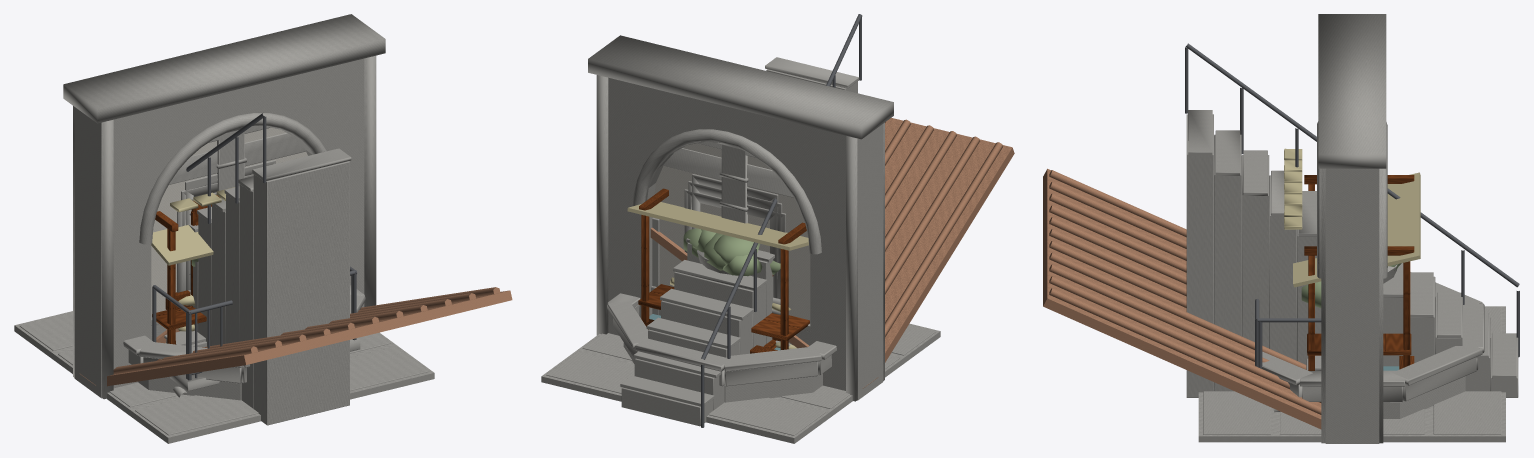
Rendered from kit.glb.
3 renders of one model, left to right at view 1: azimuth 30°, elevation 25°; view 2: azimuth 150°, elevation 25°; view 3: azimuth 270°, elevation 25°, orthographic. The views are drawn at different scales.
Parts seen in each view (by area): view 1: freestanding-archway, external-stair-run, floor-tile, roof-tile-slope, balcony-bay, market-awning-stall, octagonal-fountain, timber-double-gate, wall-plaster-bay, corner-post, wall-shuttered-window, wall-timber-door; view 2: freestanding-archway, external-stair-run, roof-tile-slope, floor-tile, octagonal-fountain, market-awning-stall, wall-plaster-bay, wall-shuttered-window, potted-olive-tree, timber-double-gate, corner-post, wall-timber-door (+3 smaller); view 3: external-stair-run, freestanding-archway, roof-tile-slope, floor-tile, market-awning-stall, octagonal-fountain, balcony-bay.
Boxes of the visible parts, left/top/right/bottom form: freestanding-archway: left=63, top=14, right=385, bottom=399; external-stair-run: left=186, top=113, right=351, bottom=425; floor-tile: left=14, top=311, right=434, bottom=443; roof-tile-slope: left=107, top=287, right=512, bottom=386; balcony-bay: left=151, top=128, right=360, bottom=397; market-awning-stall: left=151, top=187, right=234, bottom=344; octagonal-fountain: left=123, top=285, right=365, bottom=400; timber-double-gate: left=169, top=126, right=306, bottom=184; wall-plaster-bay: left=151, top=127, right=307, bottom=317; corner-post: left=216, top=128, right=246, bottom=190; wall-shuttered-window: left=151, top=128, right=283, bottom=312; wall-timber-door: left=156, top=132, right=307, bottom=300; freestanding-archway: left=588, top=35, right=893, bottom=401; external-stair-run: left=620, top=14, right=862, bottom=427; roof-tile-slope: left=885, top=118, right=1014, bottom=362; floor-tile: left=541, top=323, right=940, bottom=443; octagonal-fountain: left=607, top=250, right=836, bottom=402; market-awning-stall: left=627, top=188, right=809, bottom=353; wall-plaster-bay: left=655, top=143, right=810, bottom=323; wall-shuttered-window: left=654, top=146, right=809, bottom=315; potted-olive-tree: left=683, top=228, right=780, bottom=276; timber-double-gate: left=663, top=141, right=793, bottom=197; corner-post: left=718, top=142, right=748, bottom=223; wall-timber-door: left=656, top=147, right=809, bottom=320; external-stair-run: left=1185, top=43, right=1519, bottom=397; freestanding-archway: left=1317, top=14, right=1387, bottom=443; roof-tile-slope: left=1043, top=168, right=1321, bottom=429; floor-tile: left=1198, top=306, right=1505, bottom=442; market-awning-stall: left=1284, top=148, right=1420, bottom=370; octagonal-fountain: left=1262, top=264, right=1484, bottom=418; balcony-bay: left=1255, top=299, right=1321, bottom=412.
Size of the model in its own units: 4.33 by 4.5 by 6.21.
11 materials, 4 textured.
